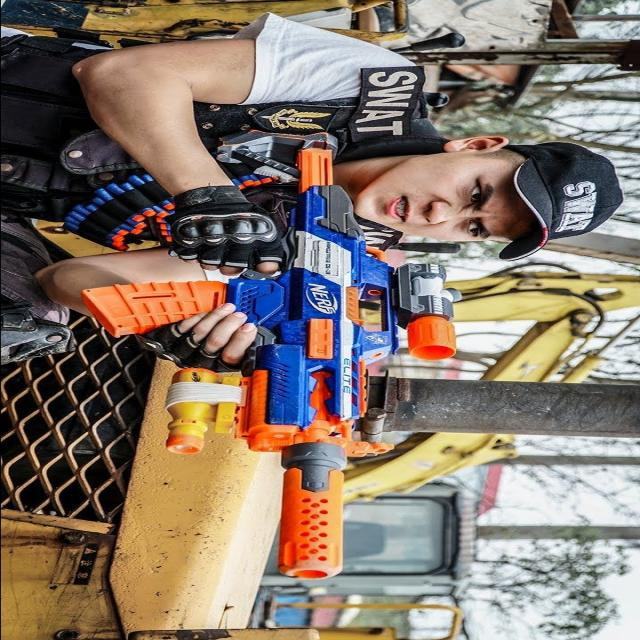Nerf gun: (70, 118, 464, 584)
